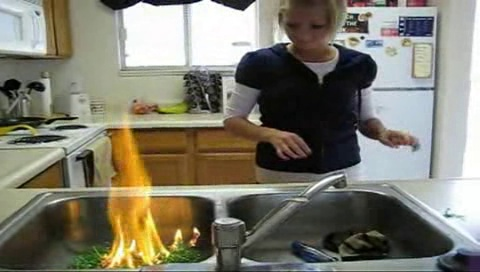fire: (103, 126, 170, 267)
